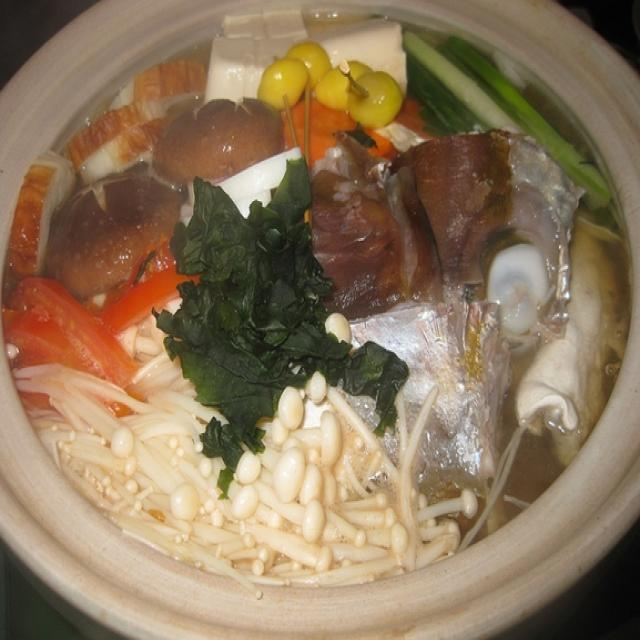汤锅炖物: (26, 18, 606, 604)
